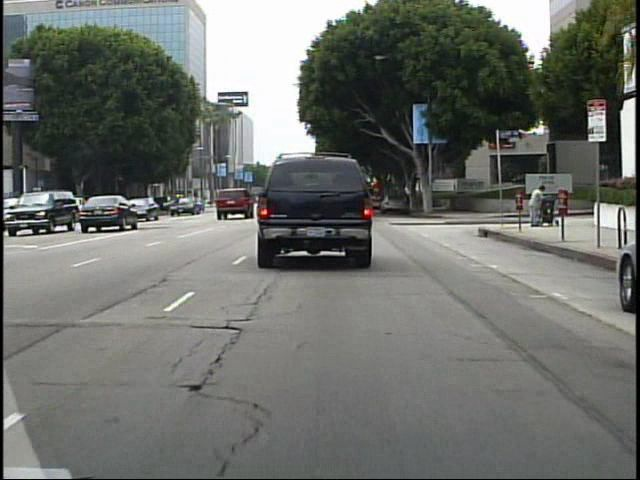person: (527, 179, 548, 231)
